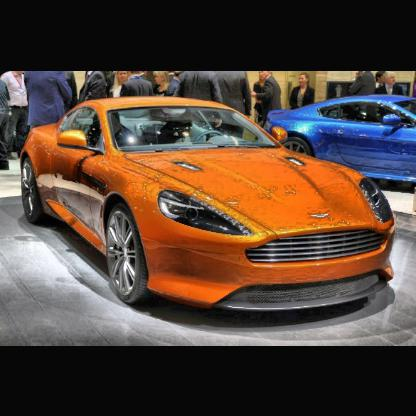Aston Martin Virage Coupe 2012: (22, 96, 399, 325)
